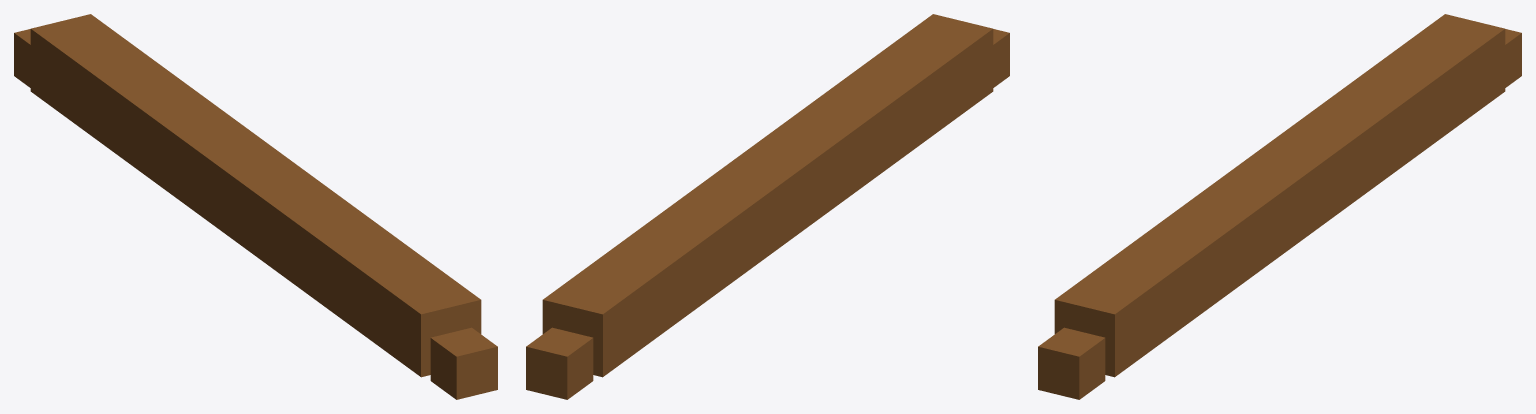
Rendered from armLeft.glb.
3 views of the same model, side by side, from view 1: azimuth 30°, elevation 25°; view 2: azimuth 150°, elevation 25°; view 3: azimuth 330°, elevation 25° (orthographic).
Size of the model in its own units: 0.08 by 0.0875 by 1.02.
